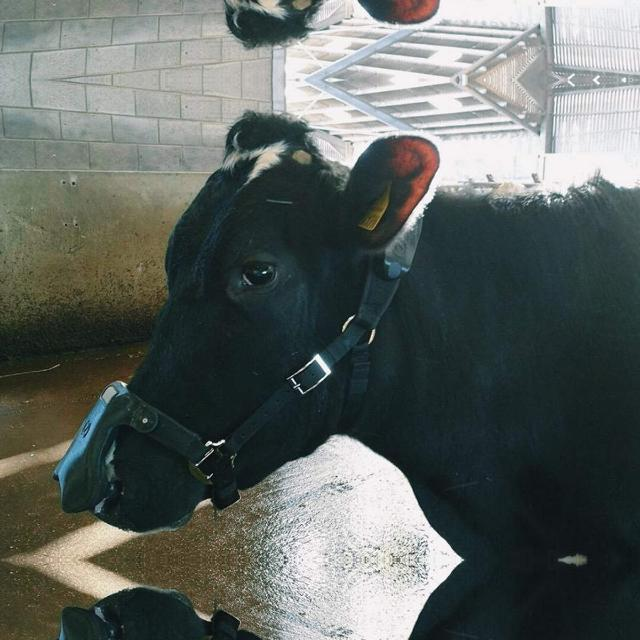obstacle: (55, 110, 640, 560), (54, 559, 639, 640), (54, 0, 639, 50)
